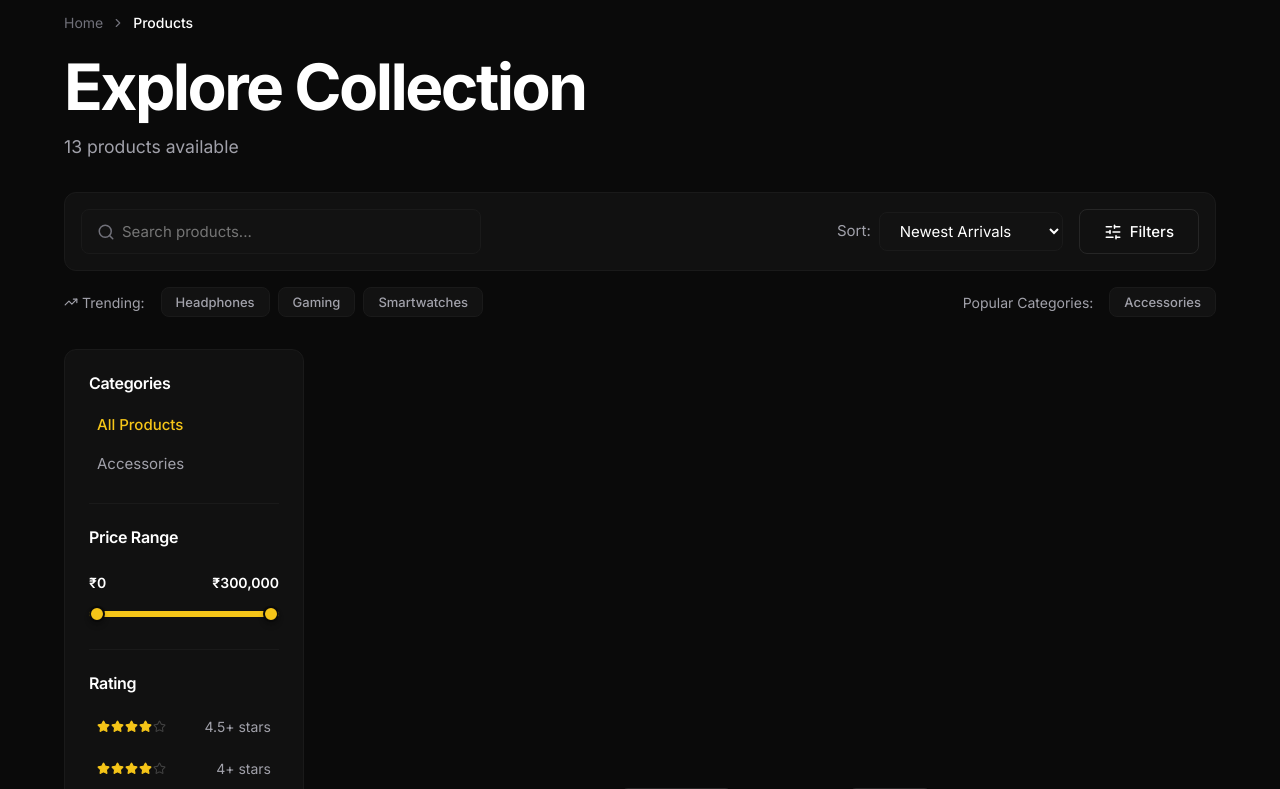
Test: ProductsPage › shows empty state for no results
Type "missing" into the search field.
click(281, 232); type("missing")  # box [81,209,481,254]
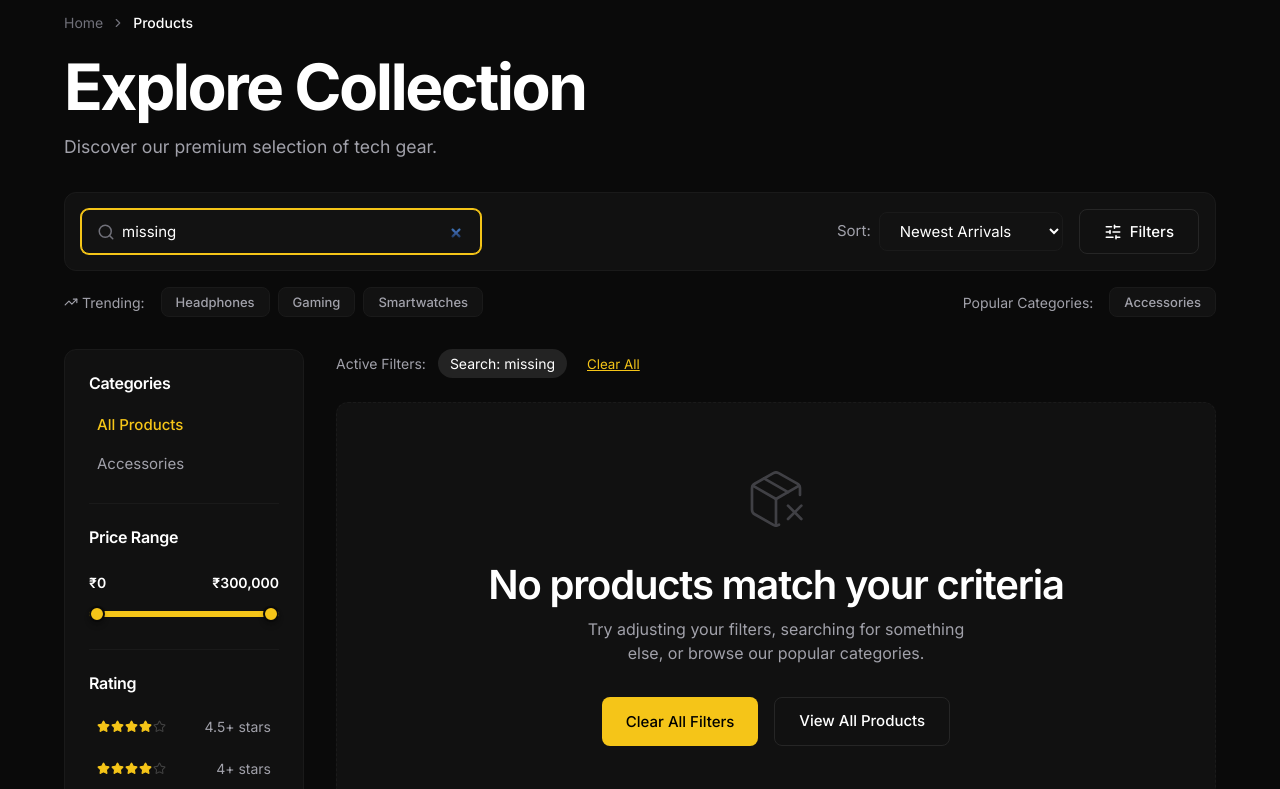
Expected: the heading "No products match your criteria" is shown, [488,561,1064,609]
